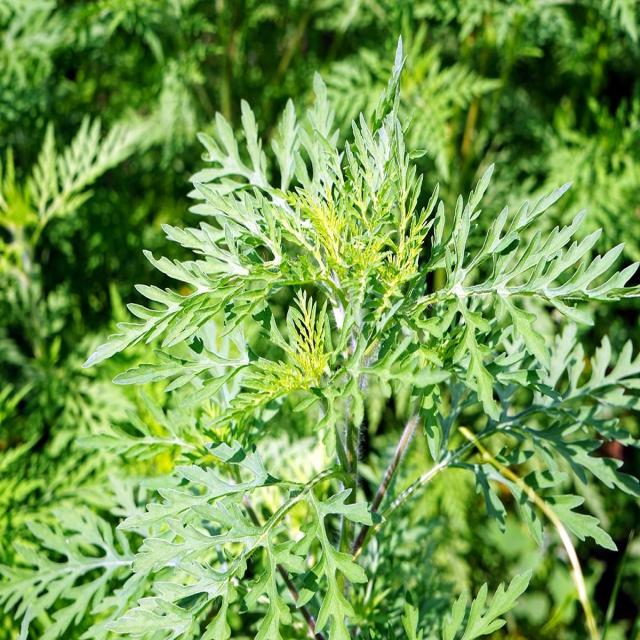ambrosia: (170, 106, 598, 473)
